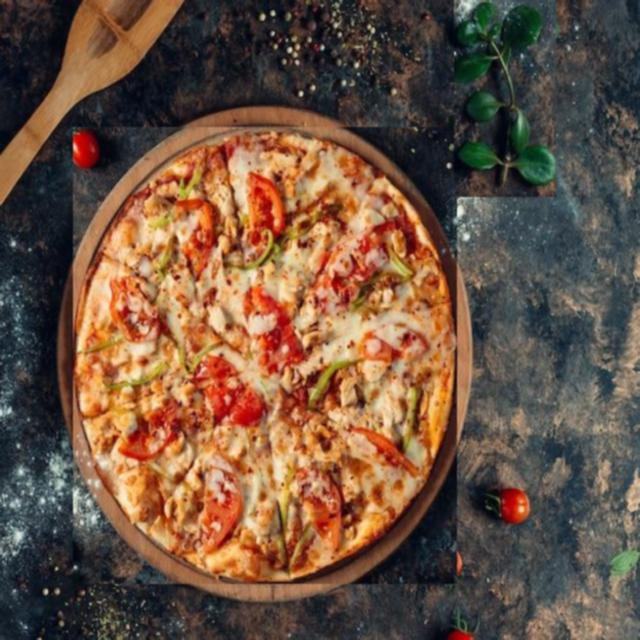basil: (454, 0, 556, 197), (608, 552, 636, 579)
pizza: (73, 127, 457, 584)
